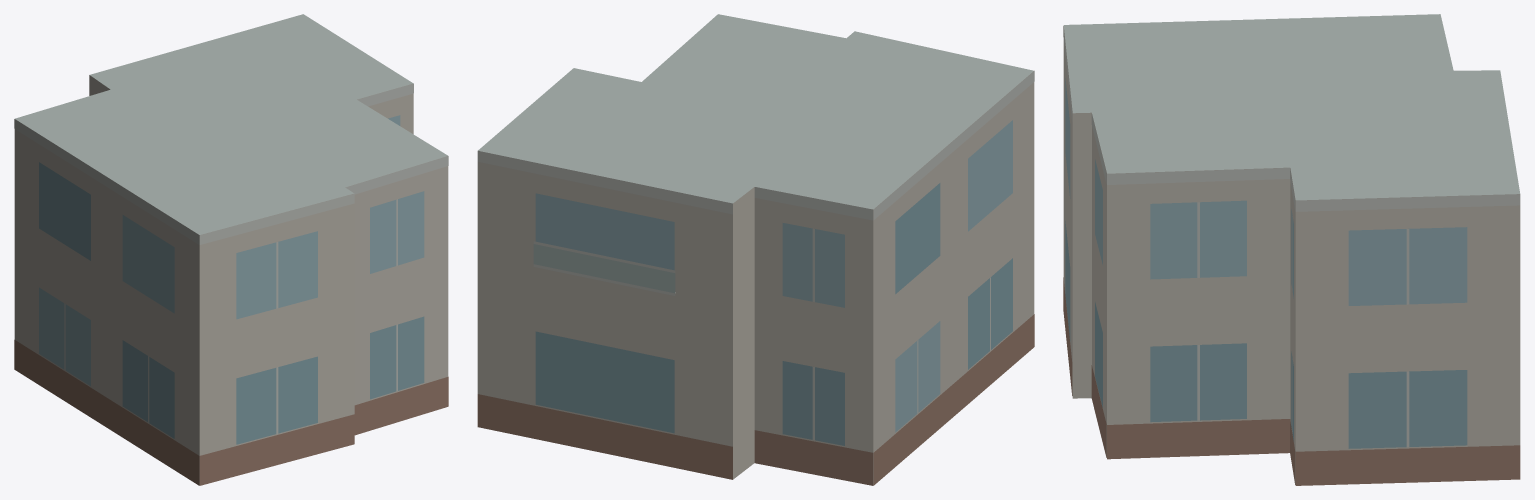
Rendered from survey-upis-32723770.glb.
3 views of the same model, side by side, from view 1: azimuth 30°, elevation 25°; view 2: azimuth 150°, elevation 25°; view 3: azimuth 270°, elevation 25° (orthographic). The views are drawn at different scales.
Parts seen in each view (by area): view 1: survey-upis-32723770.tmp; view 2: survey-upis-32723770.tmp; view 3: survey-upis-32723770.tmp.
Boxes of the visible parts, x1,y1,x2,y2 form: survey-upis-32723770.tmp: (14,14,448,485); survey-upis-32723770.tmp: (477,14,1034,485); survey-upis-32723770.tmp: (1063,14,1520,485).
Bounding box in the file's own units: 8.55 × 6.1 × 8.86.
